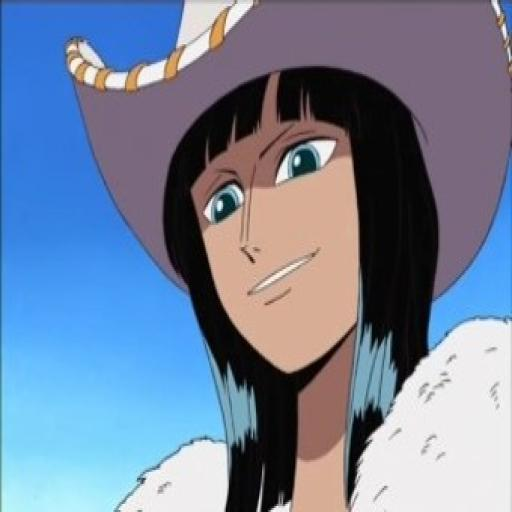NicoRobin: (122, 0, 452, 349)
